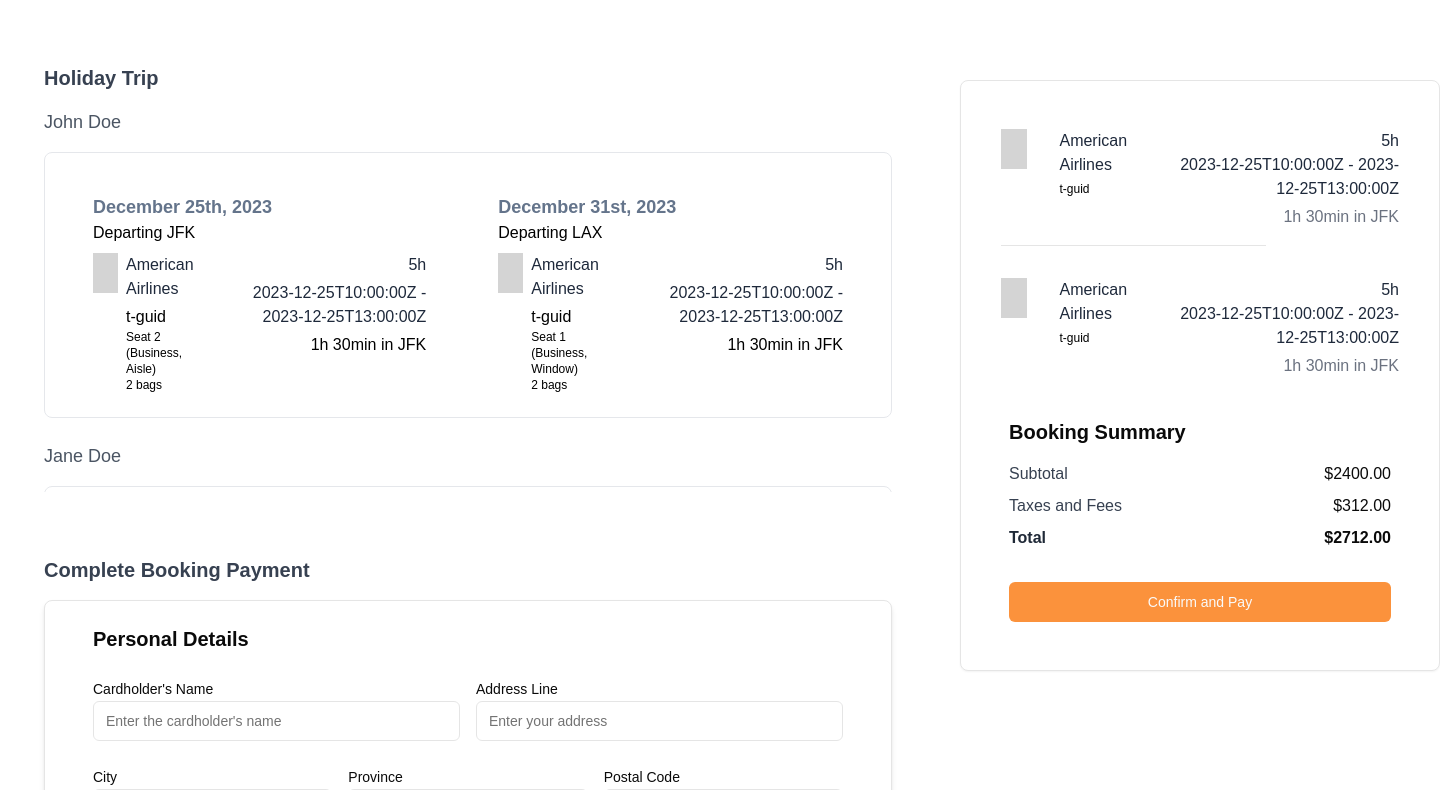
Scenario: Checkout Page › displays error message on payment failure
Step 1. Click the button "Confirm and Pay" → (1200, 602), box [1009,582,1391,622]
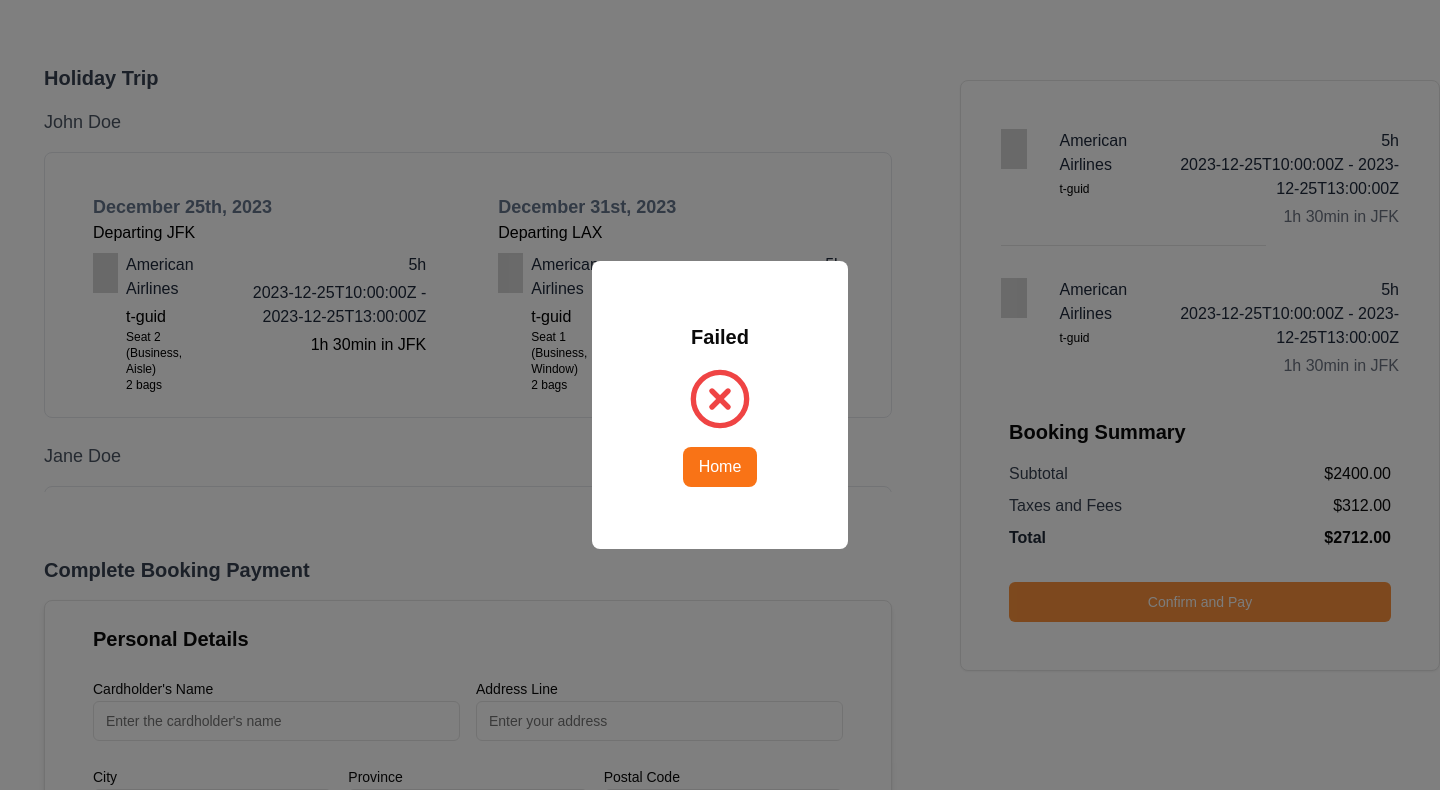
Expected: the heading "Failed" is shown, [691,323,749,351]
